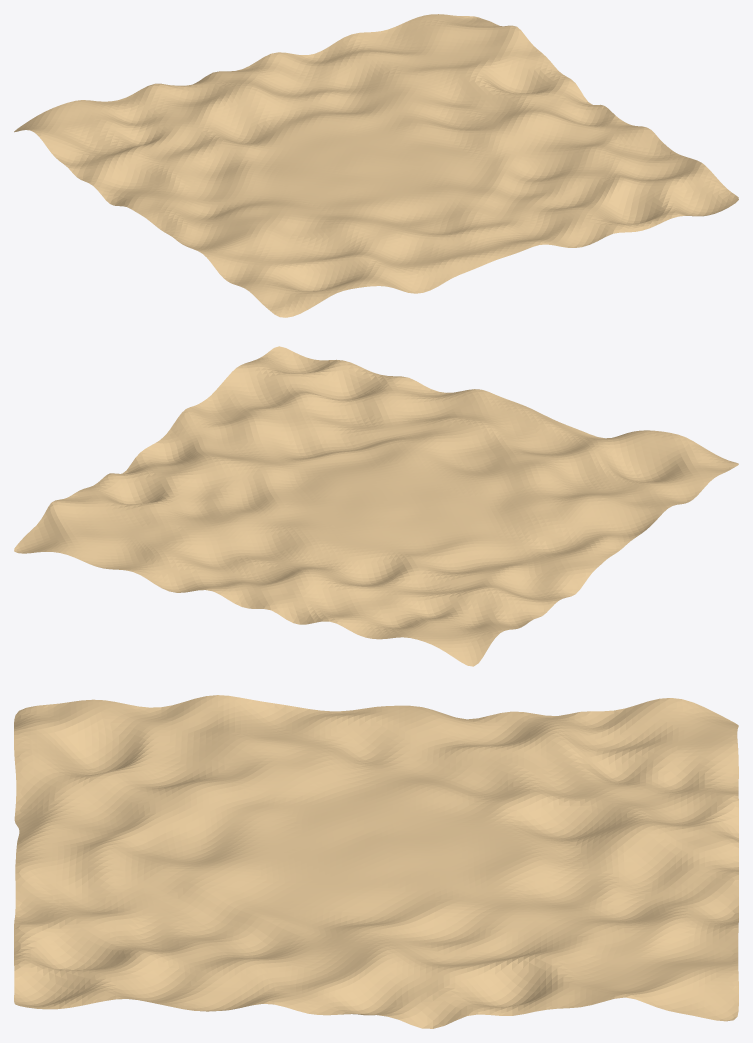
The model's file is terrainTris.fbx.
The picture shows the model from 3 angles, top to bottom: view 1: azimuth 30°, elevation 25°; view 2: azimuth 150°, elevation 25°; view 3: azimuth 270°, elevation 25°; orthographic projection. The views are drawn at different scales.
Visible parts, largest first — view 1: Plane; view 2: Plane; view 3: Plane.
Boxes of the visible parts, x1,y1,x2,y2 form: Plane: (14,14,738,317); Plane: (14,346,738,666); Plane: (14,695,738,1028).
Bounding box in the file's own units: 200011 × 9828 × 200006.
